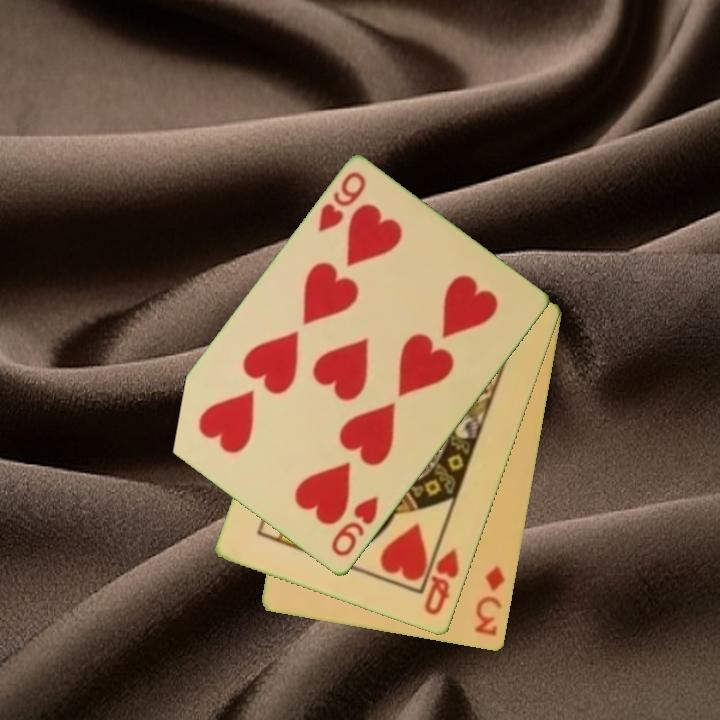3d: (472, 563, 509, 639)
9h: (327, 493, 382, 561), (314, 168, 369, 236)
Qh: (421, 545, 462, 619)
